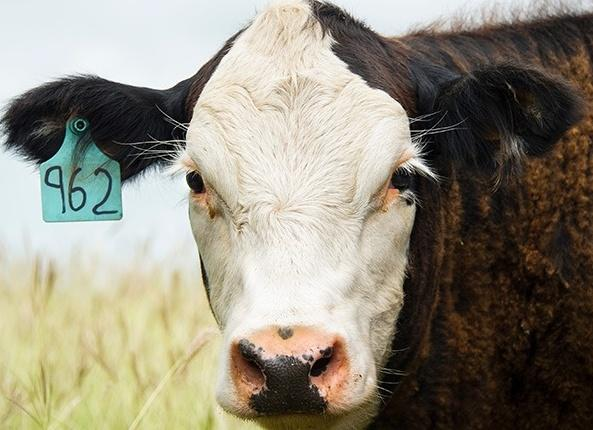muzzles: (196, 320, 392, 428)
